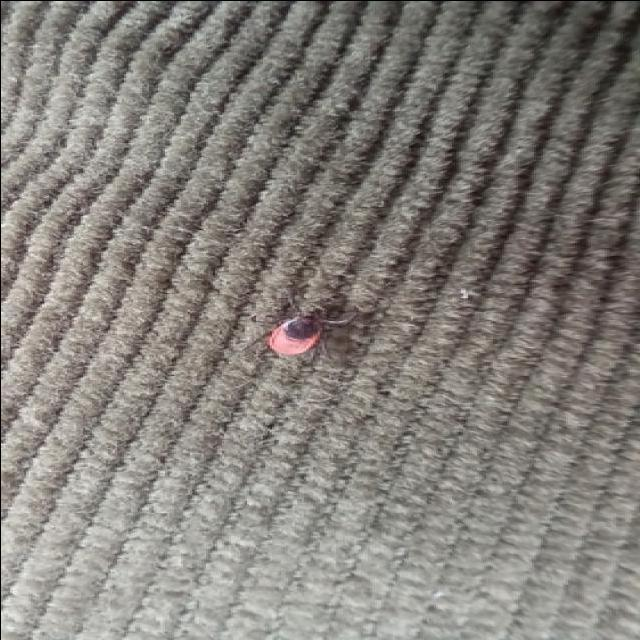Ixodes Ricinus-F: (262, 306, 351, 376)
